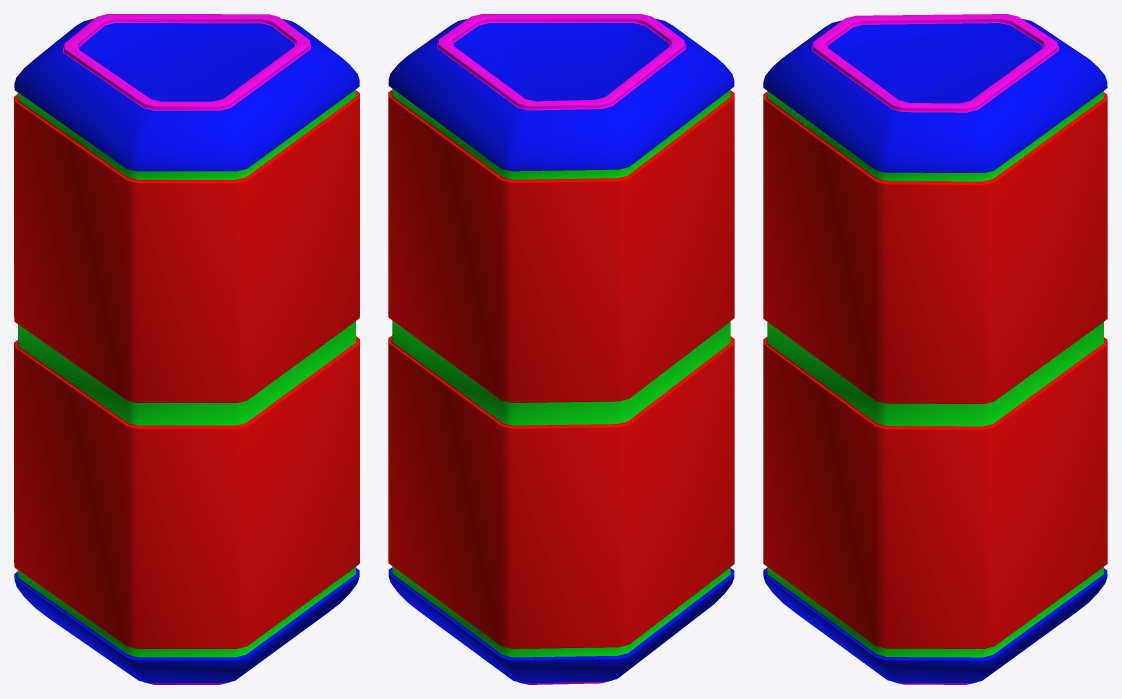
The model's file is SM_Barrel.FBX.
The picture shows the model from 3 angles, left to right: view 1: azimuth 30°, elevation 25°; view 2: azimuth 150°, elevation 25°; view 3: azimuth 270°, elevation 25°; orthographic projection.
Parts seen in each view (by area): view 1: Cylinder002; view 2: Cylinder002; view 3: Cylinder002.
Boxes of the visible parts, box(x1,y1,x2,y2) form: Cylinder002: box(14, 14, 359, 684); Cylinder002: box(388, 14, 734, 684); Cylinder002: box(763, 14, 1107, 684).
Size of the model in its own units: 42.79 by 87.96 by 47.58.
